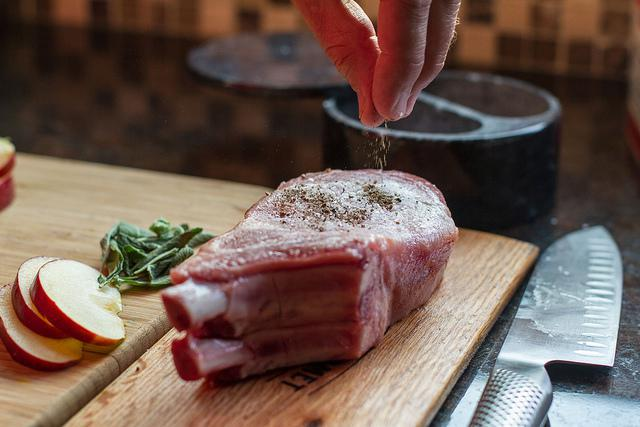hand: (291, 0, 491, 137)
